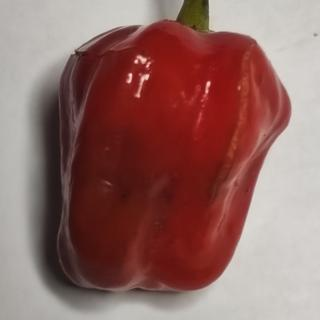striped: (199, 37, 265, 215)
